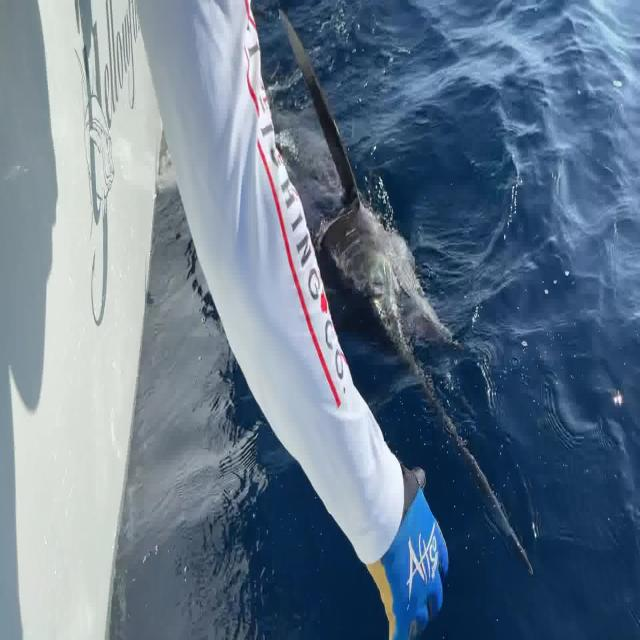Liberacion segura: (263, 6, 535, 578)
